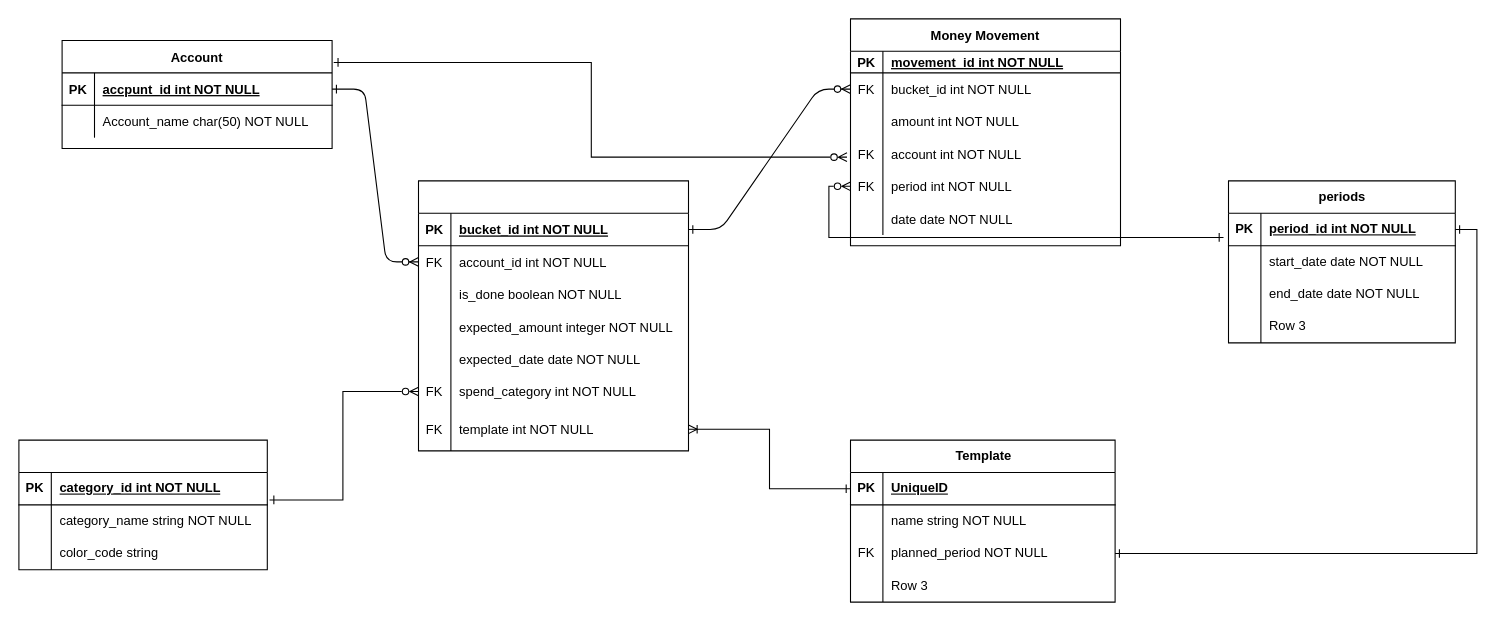
The diagram is 1506 pixels wide and 621 high, and some of its shapes have lost their labels. Here are the shapes that lost their labels. From the top down, the box of each, then its label:
(417, 180, 688, 451): spend Bucket
(18, 439, 267, 570): Spend Category
